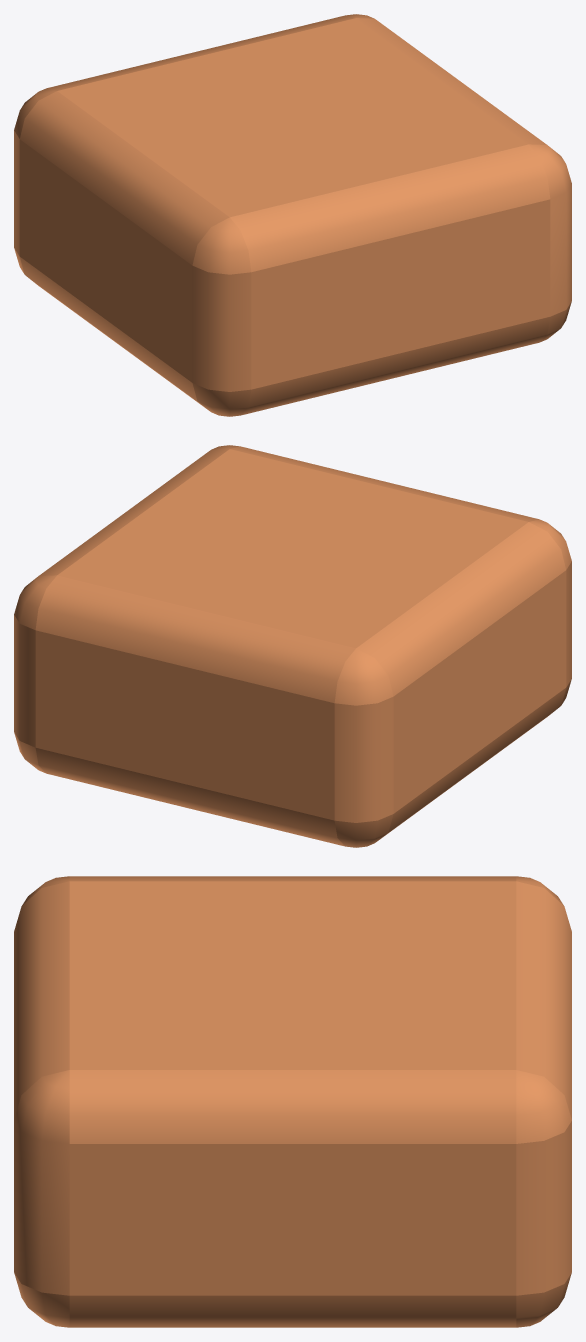
File: blockRoundedLow.glb
3 views of the same model, one above another, from view 1: azimuth 30°, elevation 25°; view 2: azimuth 150°, elevation 25°; view 3: azimuth 270°, elevation 25° (orthographic). The views are drawn at different scales.
Parts seen in each view (by area): view 1: blockRoundedLow; view 2: blockRoundedLow; view 3: blockRoundedLow.
Part boxes in pixels (x1,y1,x2,y2): blockRoundedLow: (14,14,571,416); blockRoundedLow: (14,445,571,847); blockRoundedLow: (14,876,571,1327).
Size of the model in its own units: 1 by 0.5 by 1.
